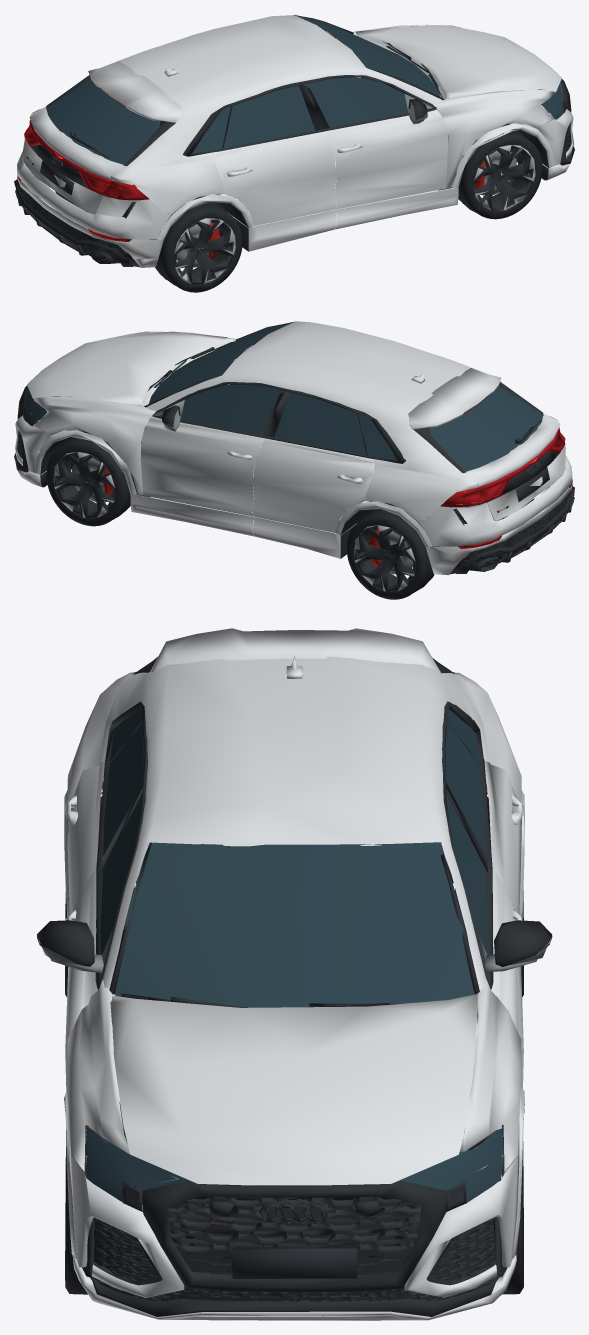
Rendered from car-white.glb.
The picture shows the model from 3 angles, top to bottom: view 1: azimuth 30°, elevation 25°; view 2: azimuth 150°, elevation 25°; view 3: azimuth 270°, elevation 25°; orthographic projection. The views are drawn at different scales.
Visible parts, largest first — view 1: car-white; view 2: car-white; view 3: car-white.
Boxes of the visible parts, x1,y1,x2,y2 form: car-white: (14,14,574,292); car-white: (14,321,574,599); car-white: (36,628,552,1320).
Bounding box in the file's own units: 5 × 1.71 × 2.23.
